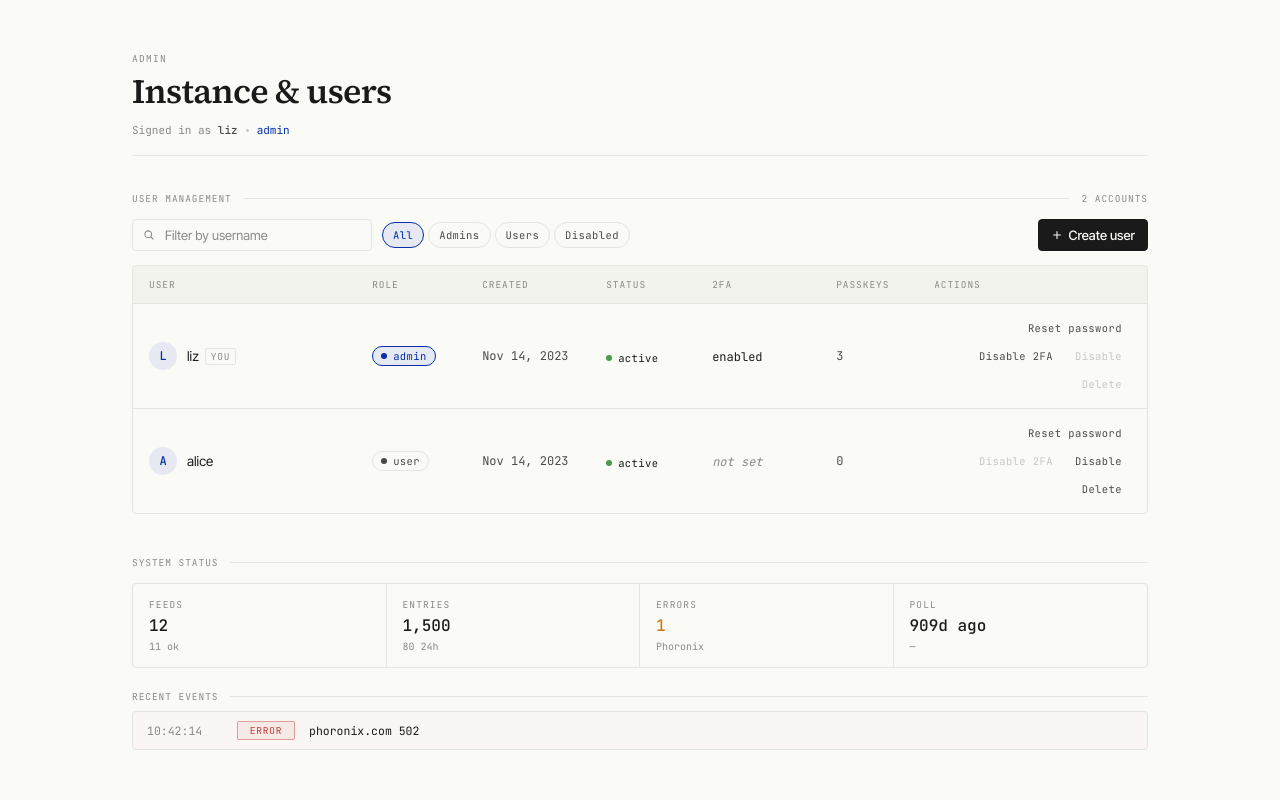
it: Admin (admin role) › filters users by search query
Expected: the text "3" is shown, [836,348,843,364]
Type "ali" into the search field with placeholder "Filter by username". click: (262, 235)
box: [163,226,361,244]
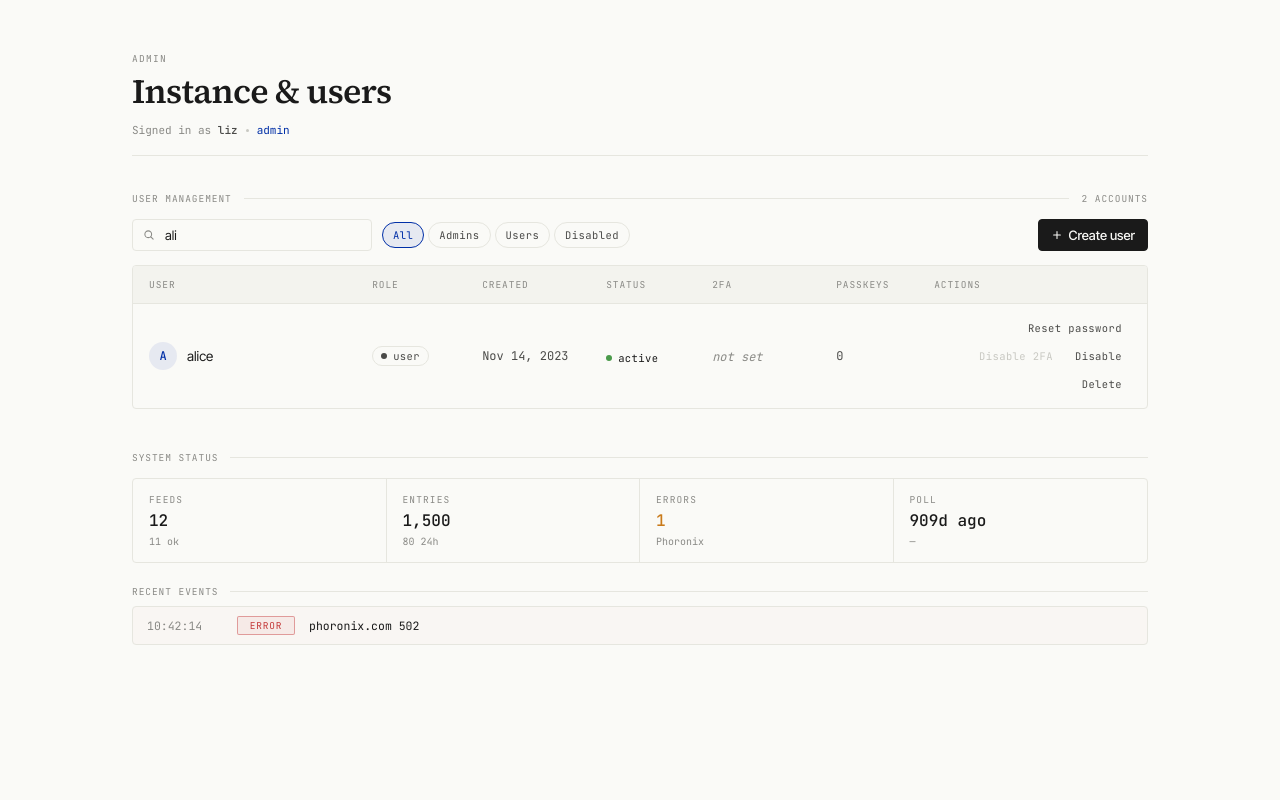
Expected: the text "0" is shown, [836,348,843,364]
Now the text with test id "urow-pk-1" is gone
